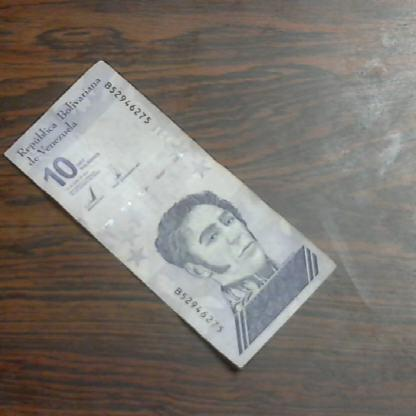ten-front-vef: (0, 59, 338, 369)
